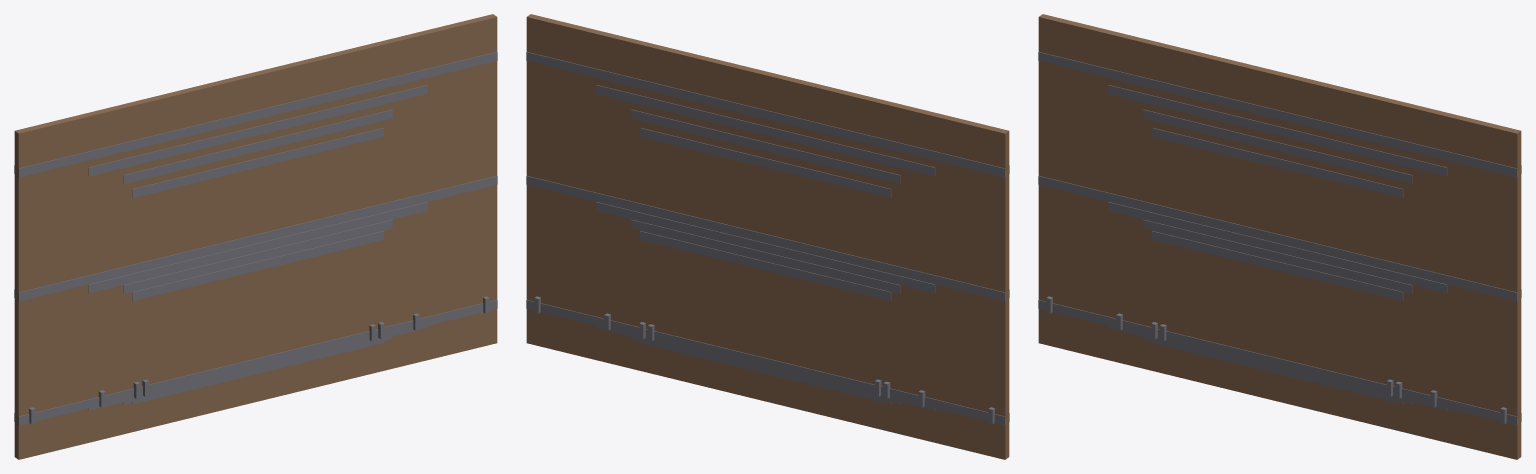
The model's file is ChocolateFactory_Doors.fbx.
3 renders of one model, left to right at view 1: azimuth 30°, elevation 25°; view 2: azimuth 150°, elevation 25°; view 3: azimuth 330°, elevation 25°, orthographic.
Parts seen in each view (by area): view 1: DoorLeaf_CHO_W6.84_H8.92_R, DoorLeaf_CHO_W6.84_H8.92_L, DoorLeaf_CHO_W3.85_H7.92_R, DoorLeaf_CHO_W3.85_H7.92_L, DoorLeaf_CHO_W3.85_H8.92_L, DoorLeaf_CHO_W3.60_H7.42_R, DoorLeaf_CHO_W4.84_H8.42_L, DoorLeaf_CHO_W3.60_H7.42_L, DoorLeaf_CHO_W3.85_H8.92_R, DoorLeaf_CHO_W4.84_H8.42_R; view 2: DoorLeaf_CHO_W6.84_H8.92_L, DoorLeaf_CHO_W6.84_H8.92_R, DoorLeaf_CHO_W4.84_H8.42_R, DoorLeaf_CHO_W3.85_H7.92_R, DoorLeaf_CHO_W3.85_H7.92_L, DoorLeaf_CHO_W3.60_H7.42_L, DoorLeaf_CHO_W3.85_H8.92_L, DoorLeaf_CHO_W3.60_H7.42_R, DoorLeaf_CHO_W4.84_H8.42_L, DoorLeaf_CHO_W3.85_H8.92_R; view 3: DoorLeaf_CHO_W6.84_H8.92_R, DoorLeaf_CHO_W6.84_H8.92_L, DoorLeaf_CHO_W4.84_H8.42_L, DoorLeaf_CHO_W3.60_H7.42_R, DoorLeaf_CHO_W3.85_H7.92_L, DoorLeaf_CHO_W3.85_H8.92_R, DoorLeaf_CHO_W3.85_H8.92_L, DoorLeaf_CHO_W3.60_H7.42_L, DoorLeaf_CHO_W4.84_H8.42_R, DoorLeaf_CHO_W3.85_H7.92_R.
Part boxes in pixels (bbox=[...]): DoorLeaf_CHO_W6.84_H8.92_R: bbox=[257, 14, 497, 399]; DoorLeaf_CHO_W6.84_H8.92_L: bbox=[14, 73, 258, 459]; DoorLeaf_CHO_W3.85_H7.92_R: bbox=[258, 88, 392, 400]; DoorLeaf_CHO_W3.85_H7.92_L: bbox=[123, 119, 258, 434]; DoorLeaf_CHO_W3.85_H8.92_L: bbox=[120, 72, 258, 433]; DoorLeaf_CHO_W3.60_H7.42_R: bbox=[258, 114, 383, 401]; DoorLeaf_CHO_W4.84_H8.42_L: bbox=[88, 94, 258, 441]; DoorLeaf_CHO_W3.60_H7.42_L: bbox=[132, 135, 258, 418]; DoorLeaf_CHO_W3.85_H8.92_R: bbox=[254, 39, 392, 400]; DoorLeaf_CHO_W4.84_H8.42_R: bbox=[258, 76, 427, 398]; DoorLeaf_CHO_W6.84_H8.92_L: bbox=[765, 73, 1009, 459]; DoorLeaf_CHO_W6.84_H8.92_R: bbox=[526, 14, 766, 398]; DoorLeaf_CHO_W4.84_H8.42_R: bbox=[596, 52, 765, 401]; DoorLeaf_CHO_W3.85_H7.92_R: bbox=[631, 92, 765, 401]; DoorLeaf_CHO_W3.85_H7.92_L: bbox=[765, 119, 900, 434]; DoorLeaf_CHO_W3.60_H7.42_L: bbox=[765, 135, 891, 423]; DoorLeaf_CHO_W3.85_H8.92_L: bbox=[765, 72, 903, 433]; DoorLeaf_CHO_W3.60_H7.42_R: bbox=[640, 120, 765, 400]; DoorLeaf_CHO_W4.84_H8.42_L: bbox=[765, 94, 935, 410]; DoorLeaf_CHO_W3.85_H8.92_R: bbox=[631, 39, 769, 399]; DoorLeaf_CHO_W6.84_H8.92_R: bbox=[1277, 73, 1521, 459]; DoorLeaf_CHO_W6.84_H8.92_L: bbox=[1038, 14, 1279, 398]; DoorLeaf_CHO_W4.84_H8.42_L: bbox=[1108, 52, 1277, 400]; DoorLeaf_CHO_W3.60_H7.42_R: bbox=[1277, 136, 1403, 425]; DoorLeaf_CHO_W3.85_H7.92_L: bbox=[1143, 92, 1277, 401]; DoorLeaf_CHO_W3.85_H8.92_R: bbox=[1277, 72, 1415, 433]; DoorLeaf_CHO_W3.85_H8.92_L: bbox=[1143, 39, 1281, 399]; DoorLeaf_CHO_W3.60_H7.42_L: bbox=[1152, 121, 1277, 401]; DoorLeaf_CHO_W4.84_H8.42_R: bbox=[1277, 93, 1447, 410]; DoorLeaf_CHO_W3.85_H7.92_R: bbox=[1277, 119, 1412, 434].
Bounding box in the file's own units: 13.69 × 8.92 × 0.44.
